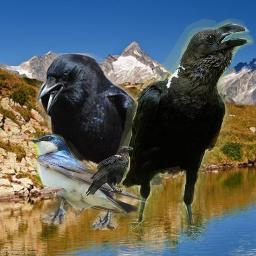Crow: (117, 18, 254, 243), (36, 53, 162, 230), (84, 146, 133, 196)
Swallow: (30, 134, 149, 223)
